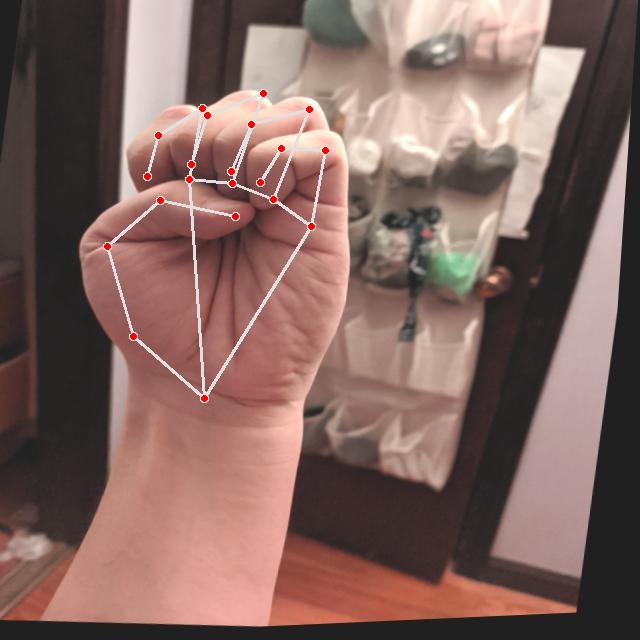E: (52, 70, 386, 429)
